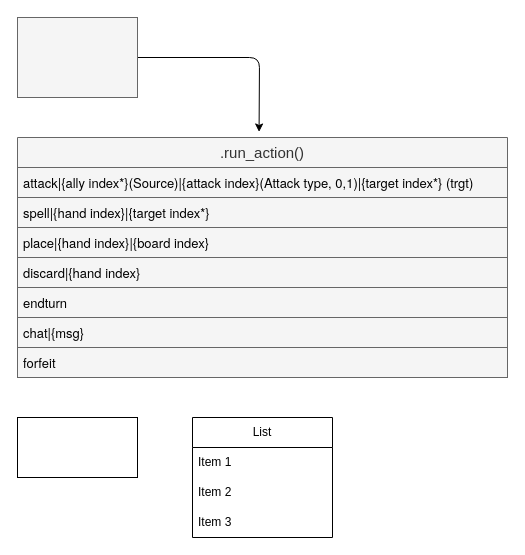
Image size: 525x555. Some labels were removed from this diagram. Each missing label, with the centre of its shape:
"CardHolder" goes at point 77,447.
"Handler" goes at point 77,57.
